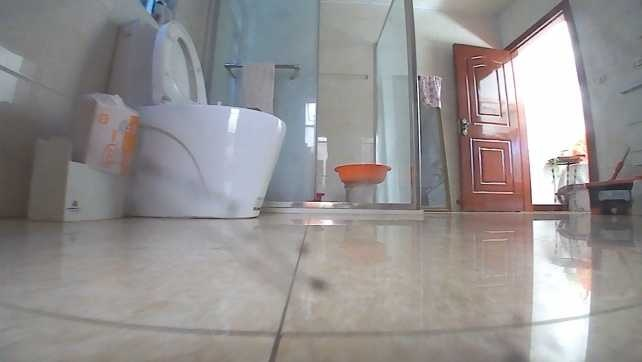door_anno: (450, 42, 532, 211)
door_sill: (302, 198, 423, 215)
toilet: (103, 17, 287, 219)
